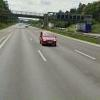cars: (40, 31, 57, 47)
